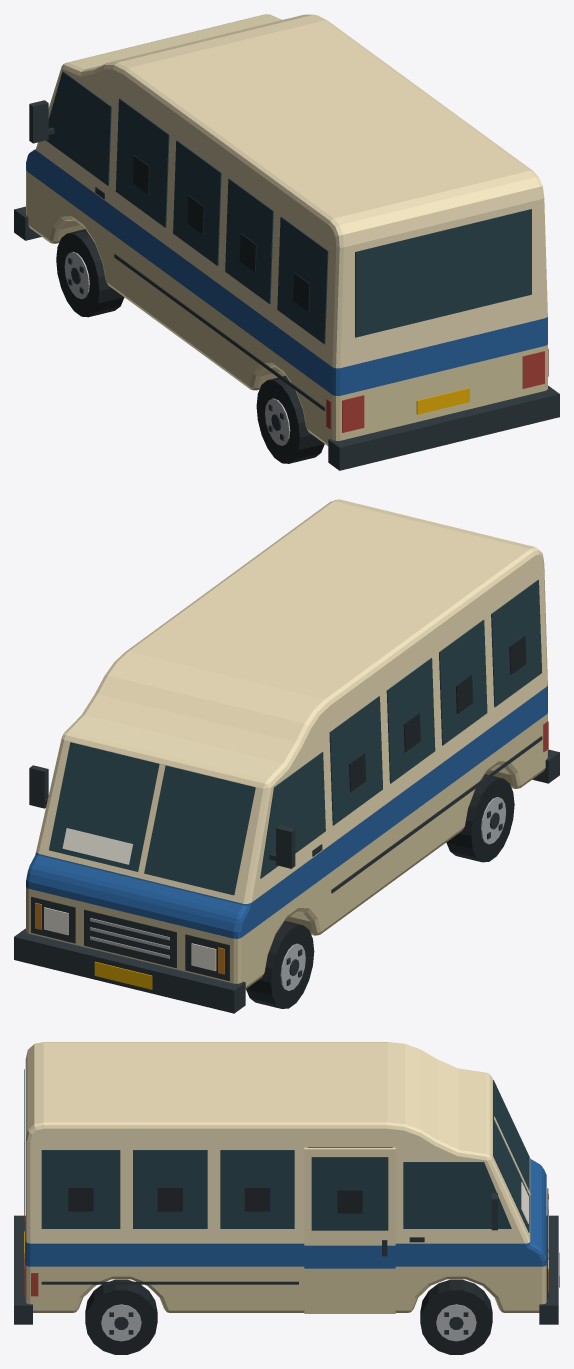
The model's file is trotro.glb.
3 views of the same model, one above another, from view 1: azimuth 30°, elevation 25°; view 2: azimuth 150°, elevation 25°; view 3: azimuth 270°, elevation 25° (orthographic). The views are drawn at different scales.
Parts seen in each view (by area): view 1: Body, Details, WheelFrontLeft, WheelBackLeft; view 2: Body, Details, WheelFrontLeft, WheelBackLeft; view 3: Body, Details, Door, WheelFrontRight, WheelBackRight.
Boxes of the visible parts, box(x1,y1,x2,y2) form: Body: box(26, 14, 547, 445); Details: box(14, 71, 559, 470); WheelFrontLeft: box(56, 229, 124, 317); WheelBackLeft: box(256, 375, 324, 463); Body: box(26, 499, 547, 988); Details: box(14, 580, 559, 1013); WheelFrontLeft: box(246, 921, 314, 1008); WheelBackLeft: box(446, 774, 514, 862); Body: box(25, 1042, 546, 1312); Details: box(14, 1069, 559, 1324); Door: box(304, 1147, 395, 1313); WheelFrontRight: box(420, 1279, 492, 1354); WheelBackRight: box(85, 1279, 157, 1354).
Bounding box in the file's own units: 2.38 × 2.37 × 5.13.
